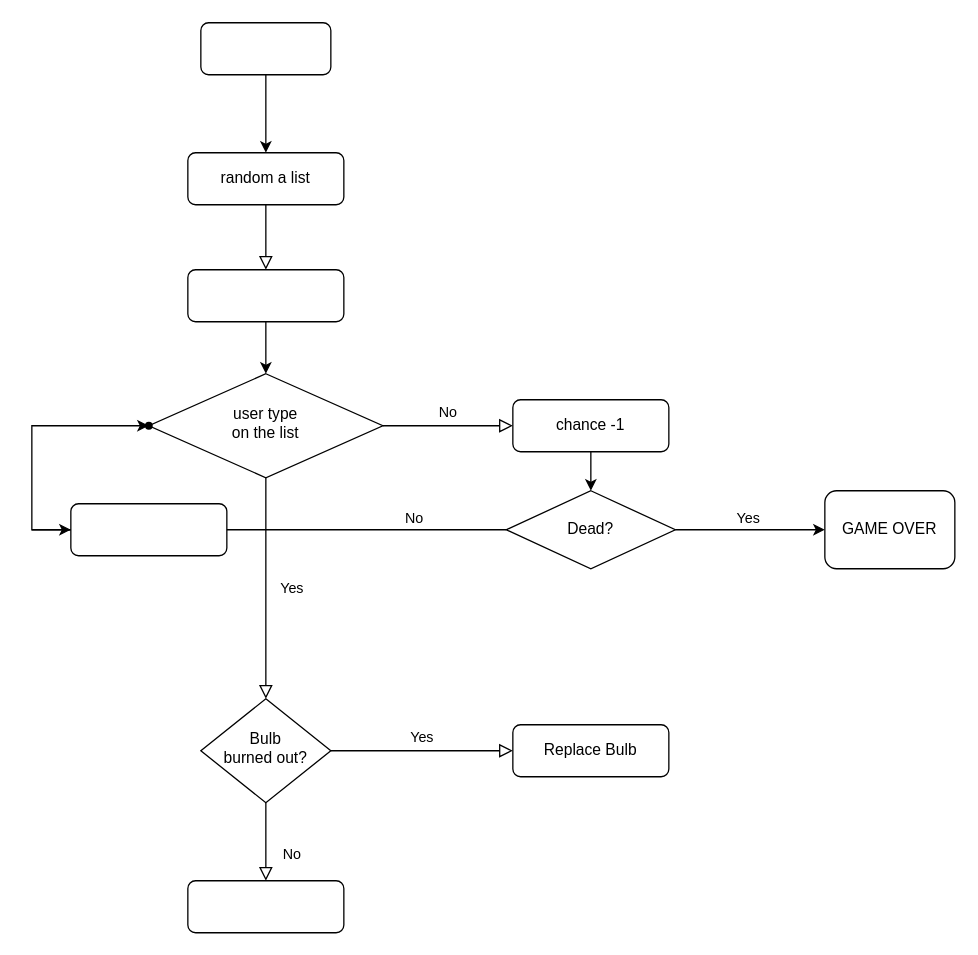
The diagram is 978 pixels wide and 955 high, and some of its shapes have lost their labels. Each missing label, with the centre of its shape:
draw lil man: the point at 148,529
game start: the point at 265,48
Repair Lamp: the point at 265,906
user type: the point at 265,295
